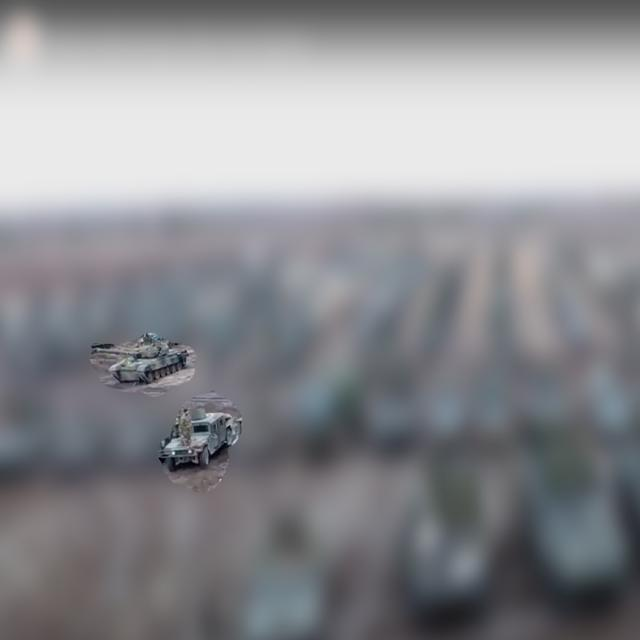tank: (91, 333, 190, 387)
